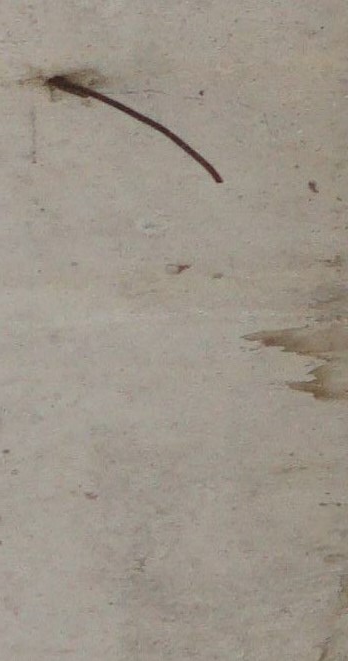Exposed reinforcement: (47, 75, 225, 184)
